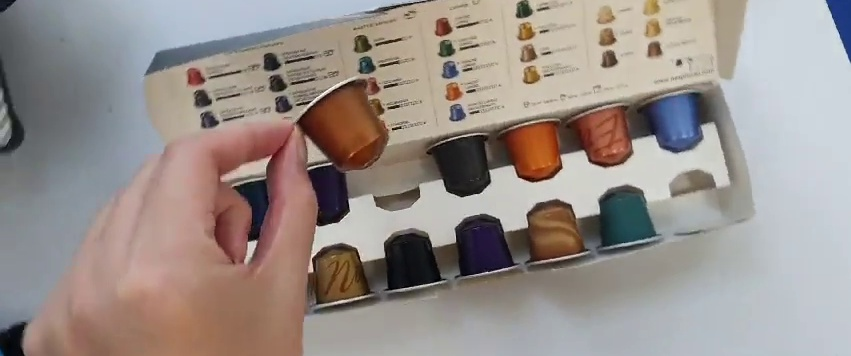capsule_3: (294, 73, 393, 173)
